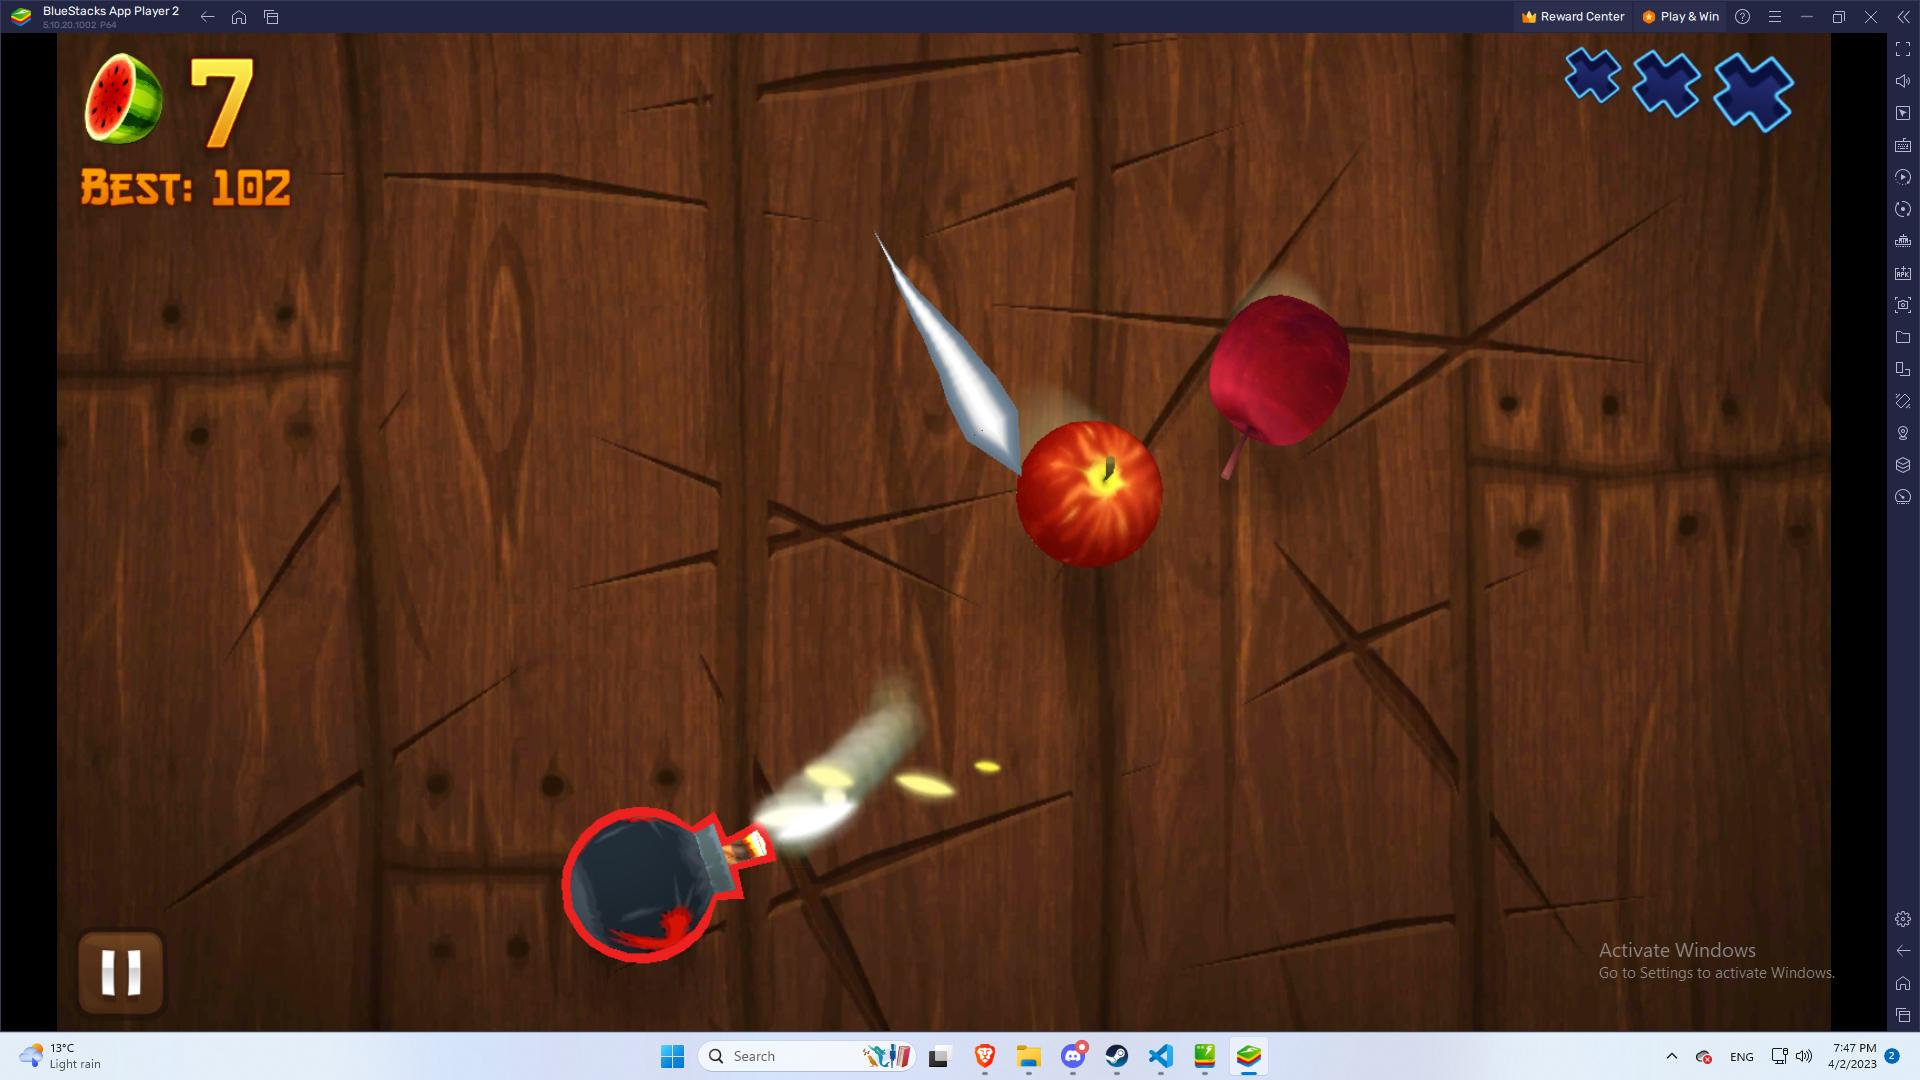bomb: (539, 796, 782, 964)
fruit: (1199, 280, 1374, 477), (997, 410, 1171, 572)
